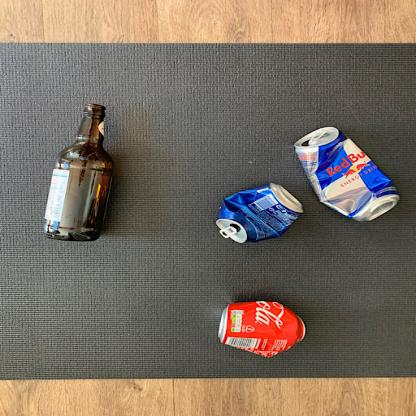trash: (41, 102, 116, 248), (296, 125, 401, 223), (207, 184, 304, 246), (219, 300, 311, 361)
